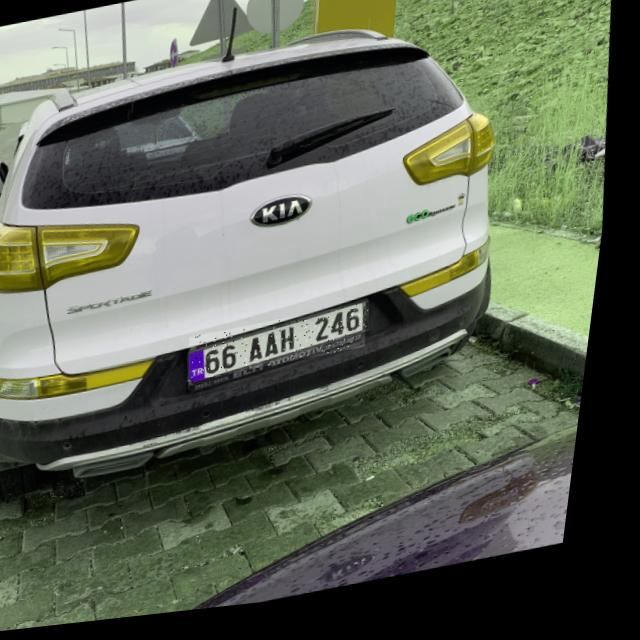license_plate: (195, 311, 382, 386)
